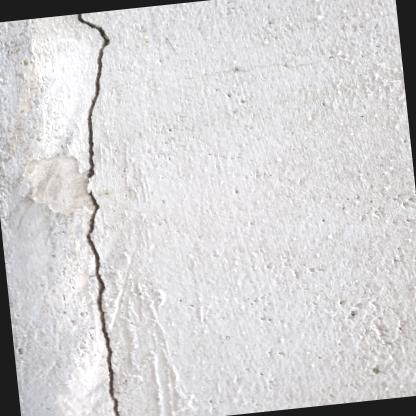crack: (76, 12, 120, 416)
